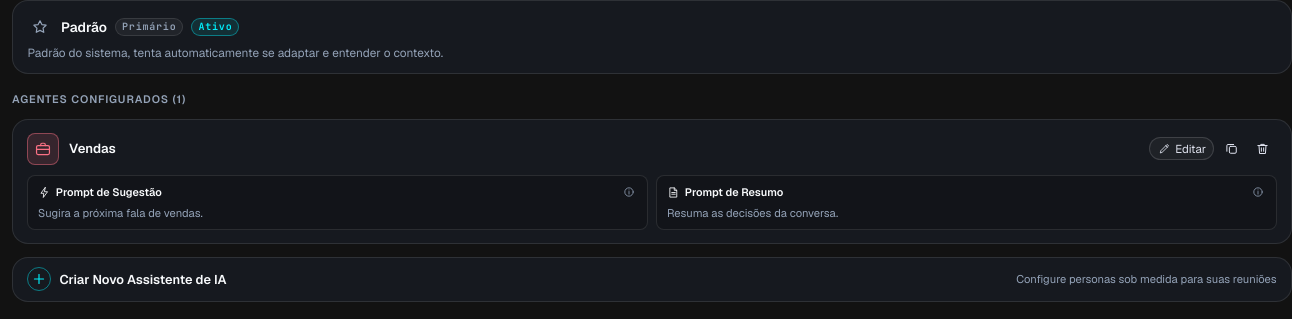
it: AssistantsSettings › exclui um agente
This screenshot has width=1292, height=319.
Click the button named "Excluir agente Vendas".
click(1263, 149)  # box top-left (1249, 135), bottom-right (1277, 163)
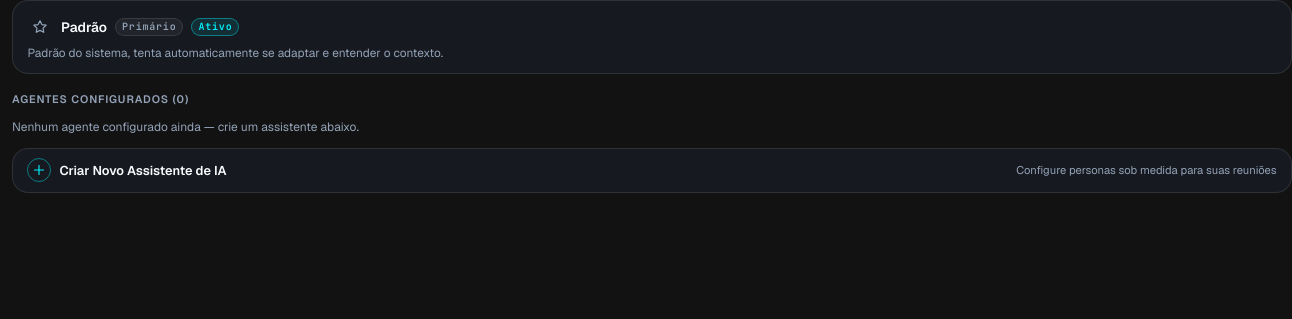
Expected: the heading "Agentes configurados (0)" is shown, top-left (12, 92), bottom-right (189, 106)
